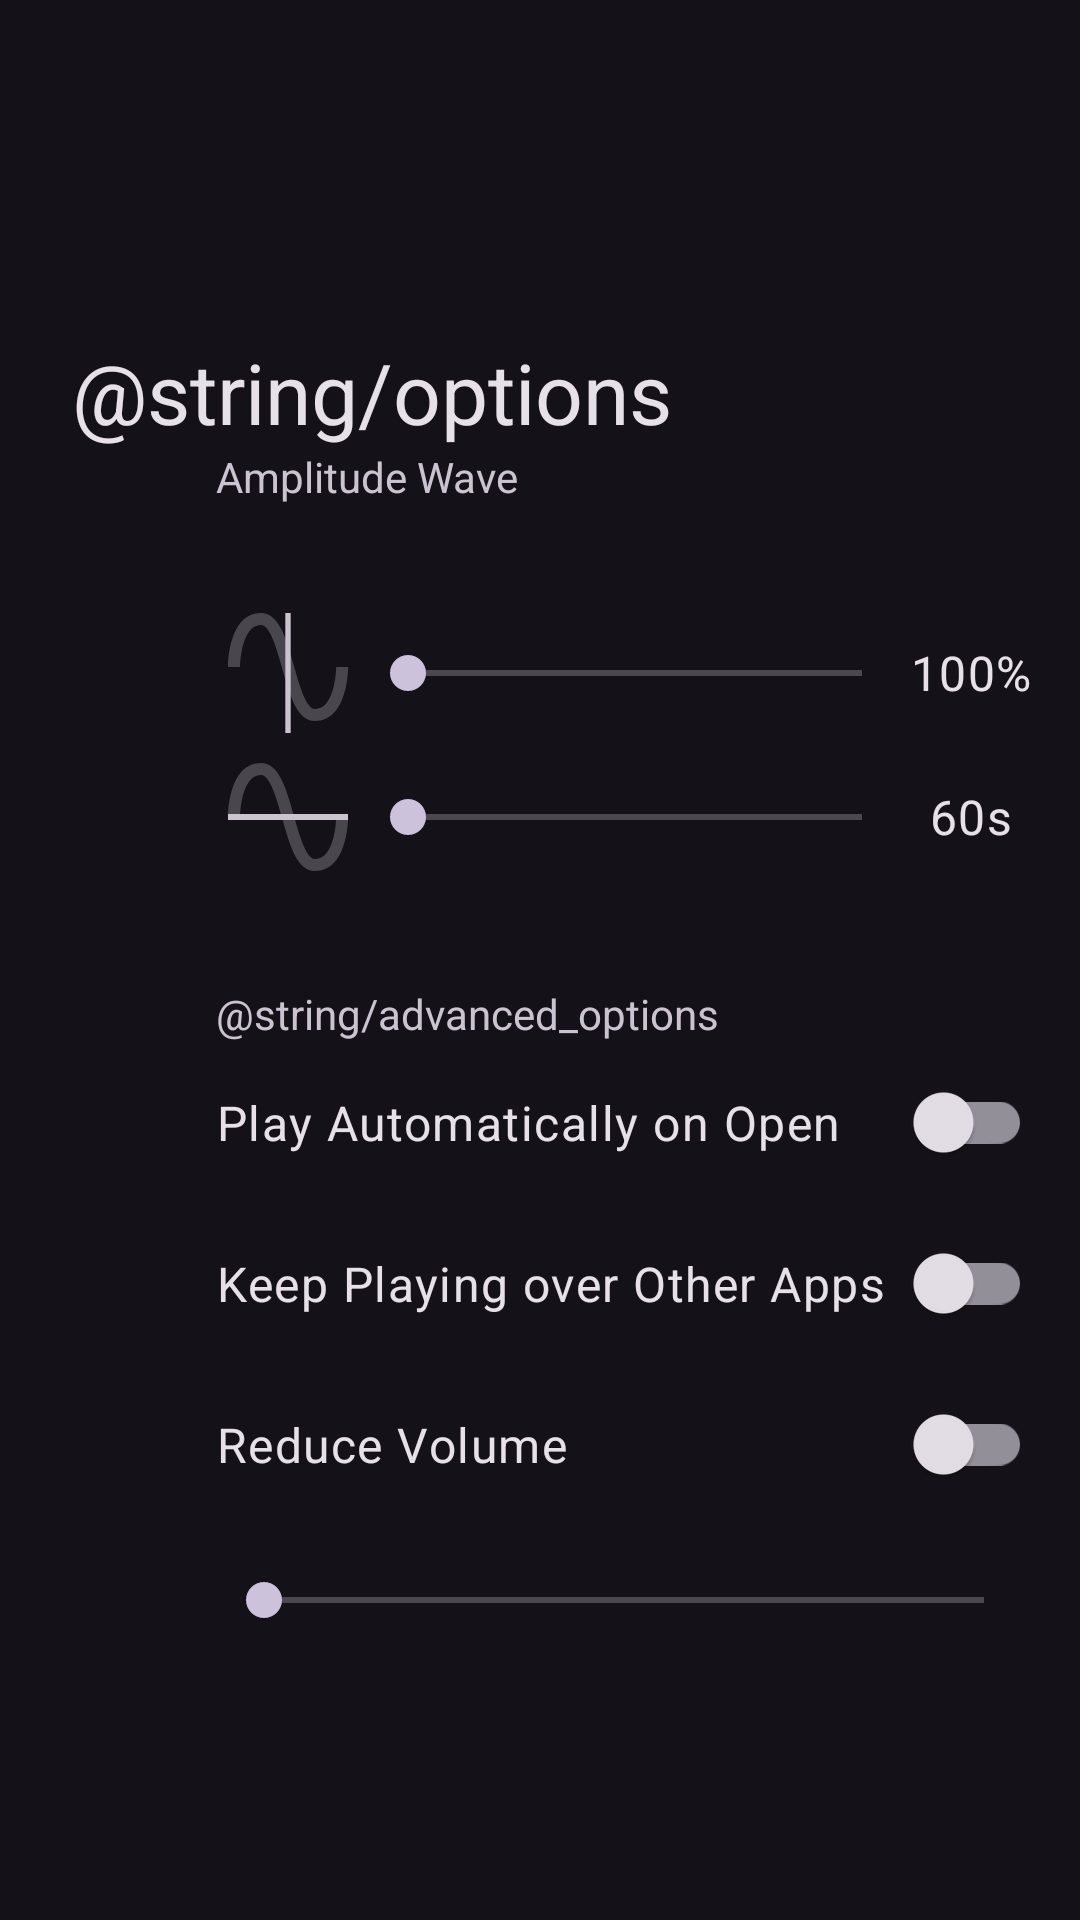

Locate icon controls on the screen. Image size 1080px x 1920px, boxes as bbox=(x1, y1, x2, y2).
frequency: bbox=(228, 763, 348, 871)
